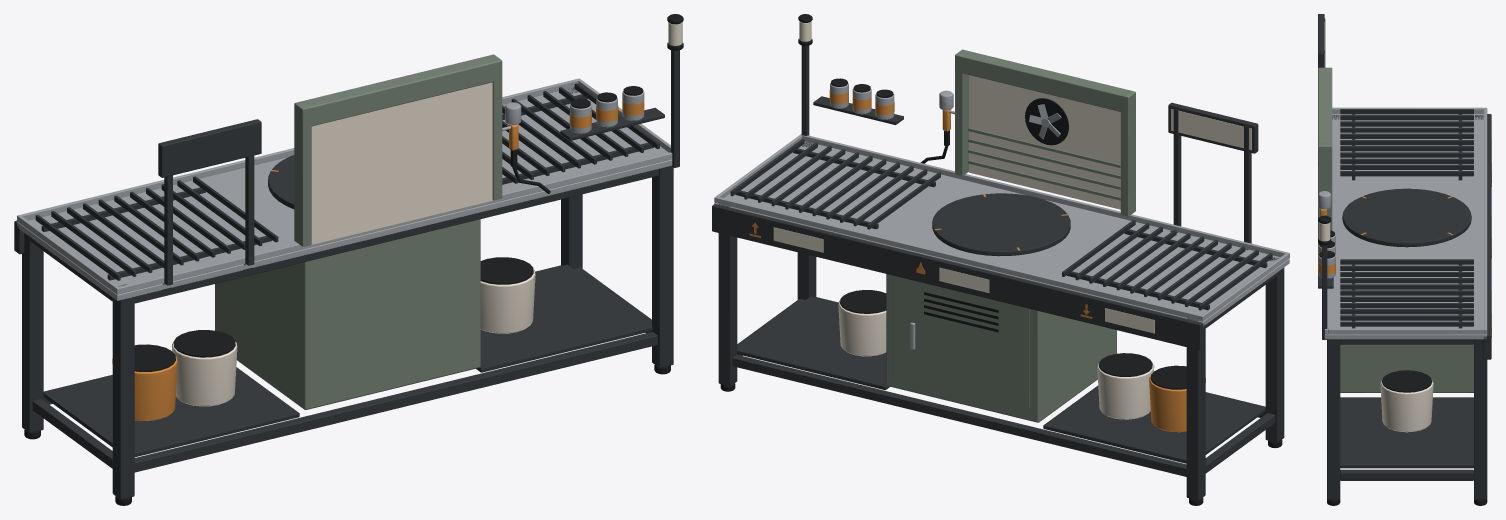
The model's file is Finishplatz01.glb.
3 renders of one model, left to right at view 1: azimuth 30°, elevation 25°; view 2: azimuth 150°, elevation 25°; view 3: azimuth 270°, elevation 25°, orthographic. The views are drawn at different scales.
Visible parts, largest first — view 1: Finishplatz01__SteelDark, Finishplatz01__SteelGreen, Finishplatz01__WallWhite, Finishplatz01__BareSteel, Finishplatz01__Black, Finishplatz01__SafetyOrange, Finishplatz01__Turntable__SteelDark; view 2: Finishplatz01__SteelDark, Finishplatz01__SteelGreen, Finishplatz01__BareSteel, Finishplatz01__WallWhite, Finishplatz01__Turntable__SteelDark, Finishplatz01__Black, Finishplatz01__SafetyOrange; view 3: Finishplatz01__SteelDark, Finishplatz01__BareSteel, Finishplatz01__SteelGreen, Finishplatz01__Turntable__SteelDark, Finishplatz01__WallWhite, Finishplatz01__Black, Finishplatz01__SafetyOrange, Finishplatz01__StatusLamp__WallWhite.
Boxes of the visible parts, x1,y1,x2,y2 form: Finishplatz01__SteelDark: [14, 50, 679, 499]; Finishplatz01__SteelGreen: [215, 54, 502, 409]; Finishplatz01__WallWhite: [172, 82, 535, 406]; Finishplatz01__BareSteel: [17, 78, 672, 300]; Finishplatz01__Black: [24, 14, 683, 505]; Finishplatz01__SafetyOrange: [112, 100, 644, 420]; Finishplatz01__Turntable__SteelDark: [268, 155, 294, 209]; Finishplatz01__SteelDark: [712, 45, 1284, 500]; Finishplatz01__SteelGreen: [886, 49, 1135, 422]; Finishplatz01__BareSteel: [714, 83, 1289, 349]; Finishplatz01__WallWhite: [773, 75, 1251, 419]; Finishplatz01__Turntable__SteelDark: [932, 193, 1070, 256]; Finishplatz01__Black: [720, 14, 1282, 505]; Finishplatz01__SafetyOrange: [749, 90, 1205, 432]; Finishplatz01__SteelDark: [1318, 14, 1491, 499]; Finishplatz01__BareSteel: [1318, 107, 1487, 339]; Finishplatz01__SteelGreen: [1318, 67, 1473, 392]; Finishplatz01__Turntable__SteelDark: [1342, 188, 1471, 247]; Finishplatz01__WallWhite: [1324, 22, 1491, 432]; Finishplatz01__Black: [1318, 215, 1487, 505]; Finishplatz01__SafetyOrange: [1318, 172, 1491, 337]; Finishplatz01__StatusLamp__WallWhite: [1319, 222, 1330, 241].
Bounding box in the file's own units: 2.37 × 1.44 × 0.7815.
